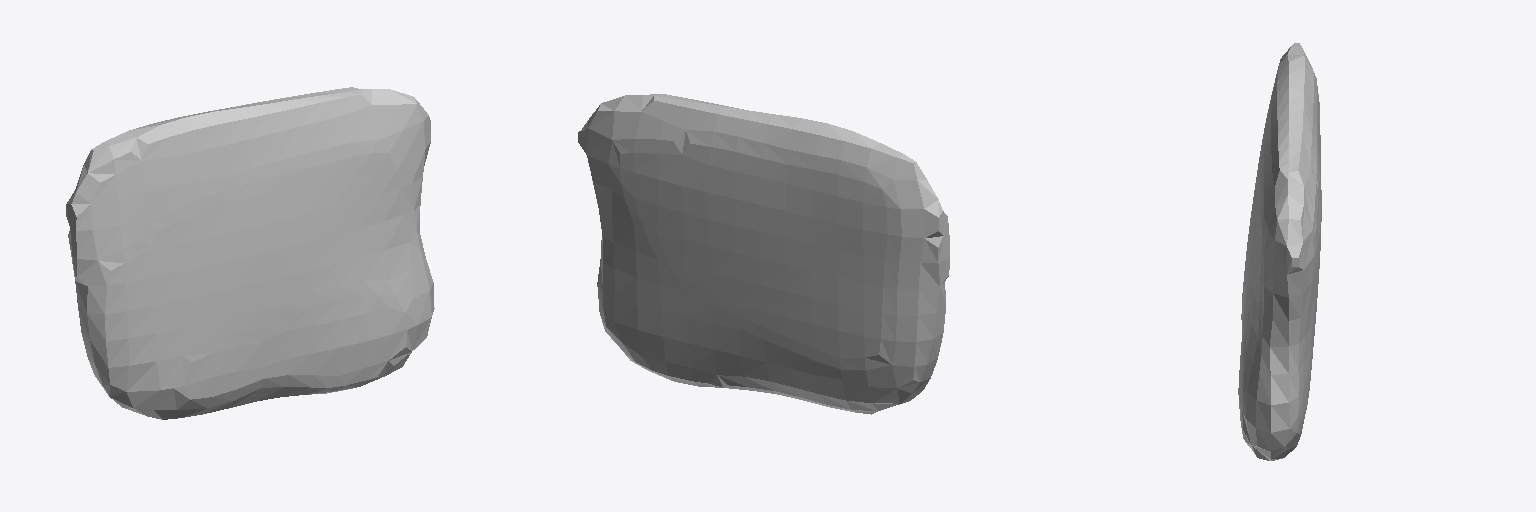
Rendered from modeloPiedraPantalla.obj.
3 renders of one model, left to right at view 1: azimuth 30°, elevation 25°; view 2: azimuth 150°, elevation 25°; view 3: azimuth 270°, elevation 25°, orthographic.
Bounding box in the file's own units: 4.69 × 3.76 × 0.9376.